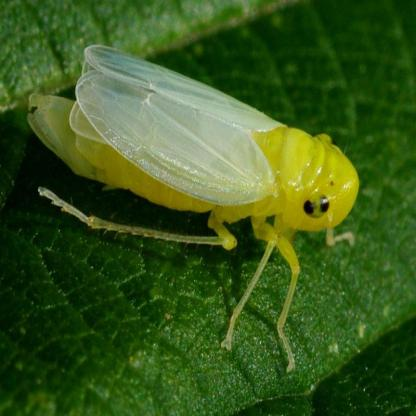Green-Leafhopper: (28, 38, 361, 372)
